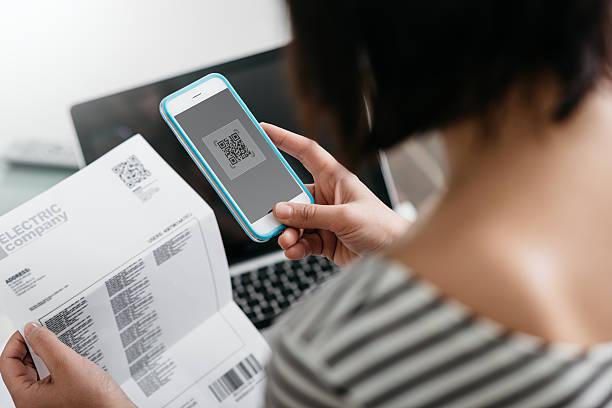Finder pattern: (109, 163, 123, 176), (215, 138, 227, 150), (230, 129, 241, 142), (127, 154, 140, 165), (125, 180, 138, 191), (227, 156, 238, 165)
